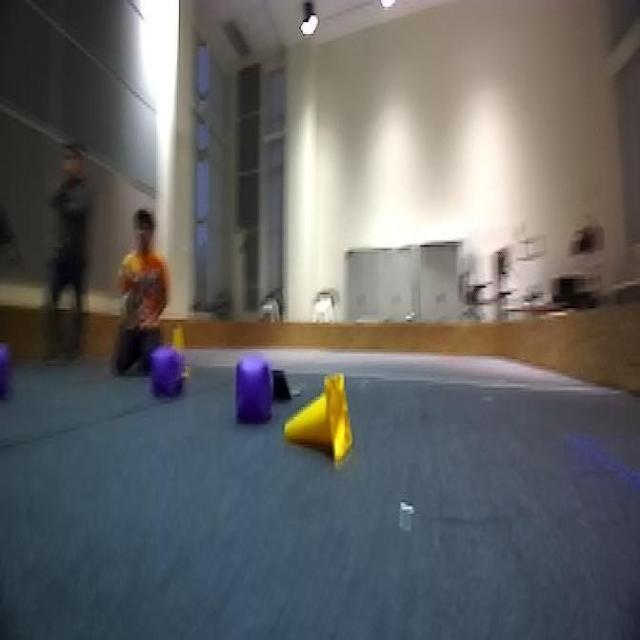frc_cone: (275, 373, 346, 461), (159, 320, 193, 352)
frc_cube: (226, 357, 268, 424), (149, 349, 184, 397)
